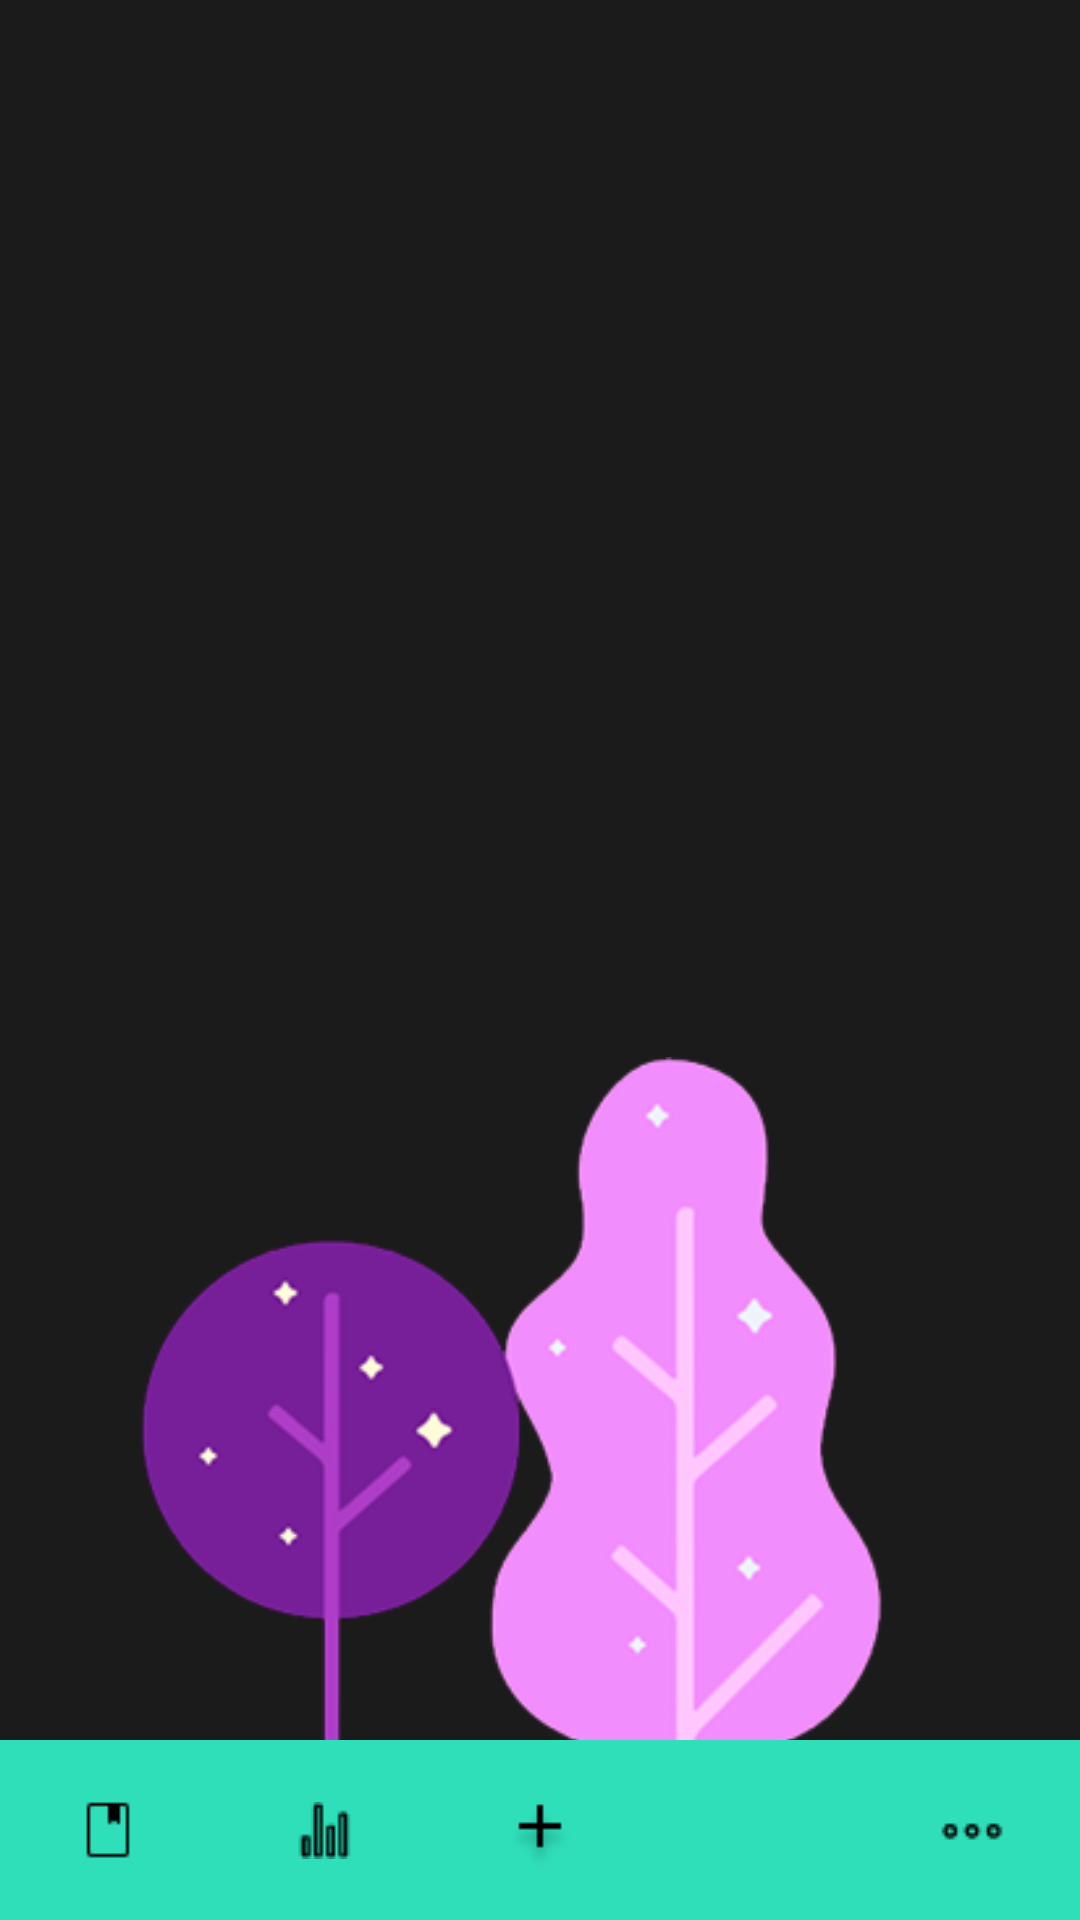

Where icons sit on this 1080w x 1920h app screen, as (left=x1, top=y1, right=x2, bottom=y2):
Add Entry: (left=518, top=1804, right=562, bottom=1849)
Journal: (left=86, top=1802, right=130, bottom=1858)
Menu: (left=941, top=1823, right=1003, bottom=1840)
Stats: (left=299, top=1802, right=350, bottom=1859)
